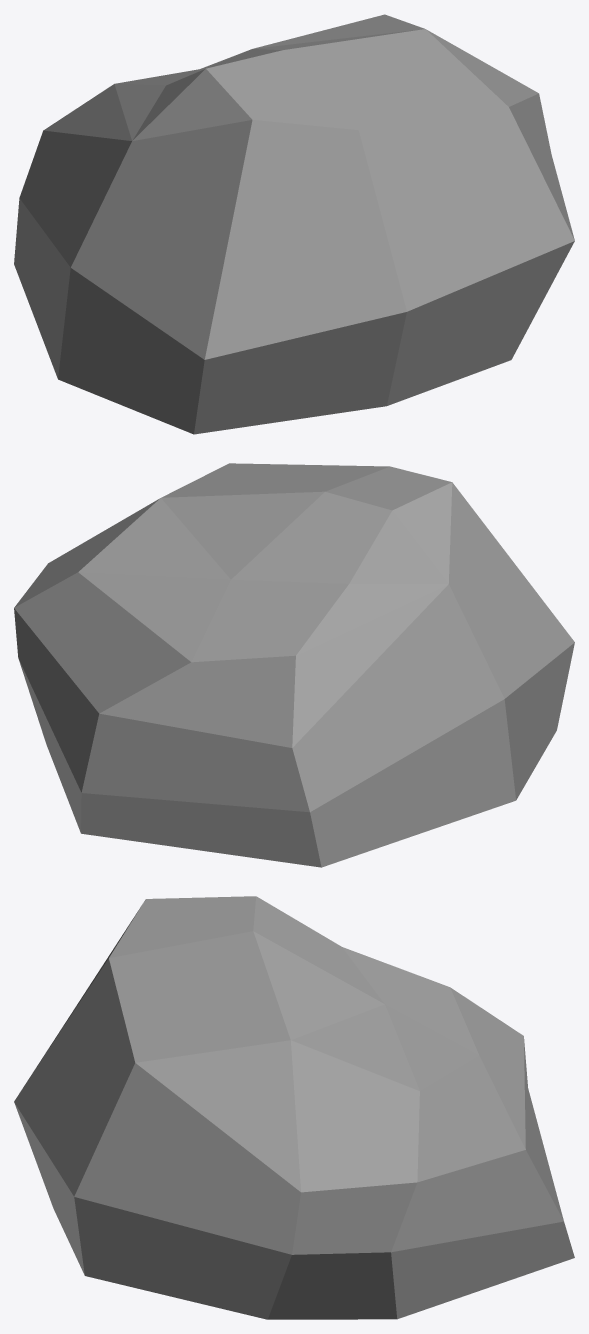
The model's file is rock07_mesh_LOD.fbx.
The picture shows the model from 3 angles, top to bottom: view 1: azimuth 30°, elevation 25°; view 2: azimuth 150°, elevation 25°; view 3: azimuth 270°, elevation 25°; orthographic projection. The views are drawn at different scales.
Parts seen in each view (by area): view 1: rock07_mesh_LOD0; view 2: rock07_mesh_LOD0; view 3: rock07_mesh_LOD0.
Boxes of the visible parts, x1,y1,x2,y2 form: rock07_mesh_LOD0: (14, 14, 574, 434); rock07_mesh_LOD0: (14, 463, 574, 867); rock07_mesh_LOD0: (14, 896, 574, 1319).
Size of what is drawn, in the model's own units: 580 by 309 by 568.
Materials: 1 (1 with a texture image).
